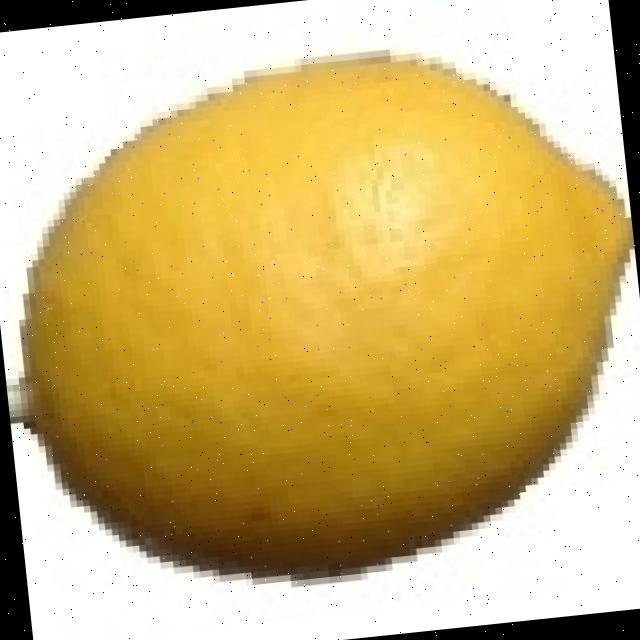lemon: (22, 57, 634, 575)
